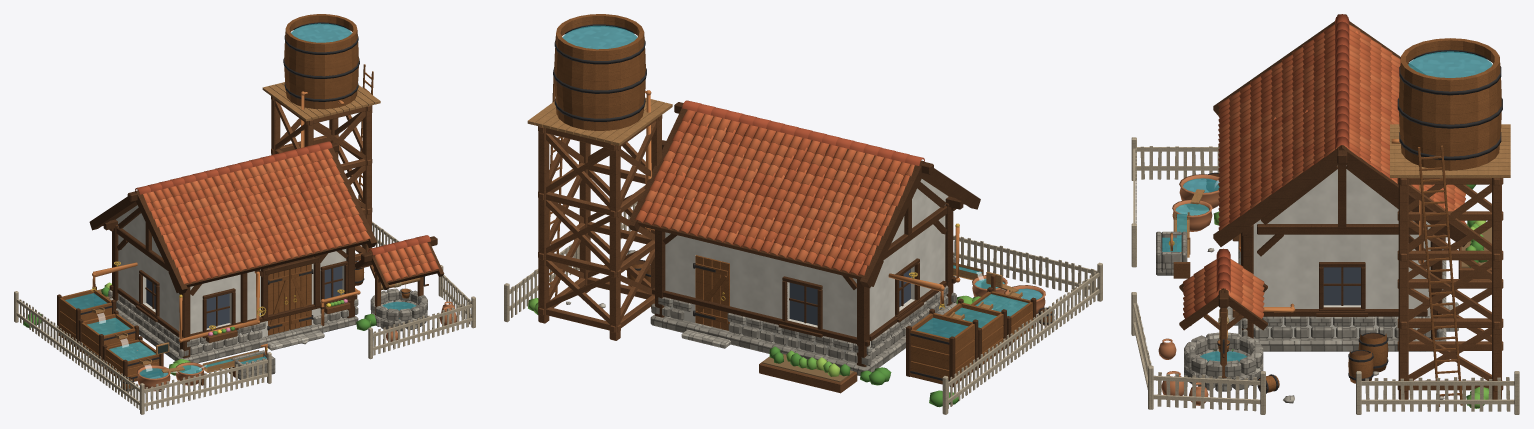
The model's file is water_treatment.glb.
3 renders of one model, left to right at view 1: azimuth 30°, elevation 25°; view 2: azimuth 150°, elevation 25°; view 3: azimuth 270°, elevation 25°, orthographic. The views are drawn at different scales.
Parts seen in each view (by area): view 1: WATER_ExteriorStatic, WATER_Roof, WATER_StorageTank, WATER_Well, WATER_Surfaces, WATER_PipeNetwork, WATER_Collection, WATER_Sedimentation, WATER_Door_R, WATER_Door_L, WATER_FilterStage, WATER_Distribution; view 2: WATER_ExteriorStatic, WATER_Roof, WATER_StorageTank, WATER_Collection, WATER_Surfaces, WATER_Door_Back, WATER_Sedimentation, WATER_PipeNetwork, WATER_FilterStage; view 3: WATER_ExteriorStatic, WATER_Roof, WATER_StorageTank, WATER_Well, WATER_Surfaces, WATER_Distribution, WATER_PipeNetwork.
Boxes of the visible parts, <box> form: WATER_ExteriorStatic: <box>14,64,475,414</box>; WATER_Roof: <box>89,141,377,294</box>; WATER_StorageTank: <box>283,14,359,109</box>; WATER_Well: <box>355,235,444,331</box>; WATER_Surfaces: <box>65,23,416,378</box>; WATER_PipeNetwork: <box>91,91,360,342</box>; WATER_Collection: <box>57,286,115,349</box>; WATER_Sedimentation: <box>78,310,138,366</box>; WATER_Door_R: <box>289,264,313,329</box>; WATER_Door_L: <box>267,269,289,335</box>; WATER_FilterStage: <box>102,336,159,381</box>; WATER_Distribution: <box>231,343,275,379</box>; WATER_ExteriorStatic: <box>504,76,1102,414</box>; WATER_Roof: <box>628,100,980,287</box>; WATER_StorageTank: <box>553,14,646,130</box>; WATER_Collection: <box>906,309,978,387</box>; WATER_Surfaces: <box>562,25,1042,338</box>; WATER_Door_Back: <box>693,255,729,330</box>; WATER_Sedimentation: <box>943,298,1006,367</box>; WATER_PipeNetwork: <box>645,90,960,309</box>; WATER_FilterStage: <box>971,287,1036,345</box>; WATER_ExteriorStatic: <box>1131,124,1519,414</box>; WATER_Roof: <box>1213,14,1466,246</box>; WATER_StorageTank: <box>1391,38,1502,170</box>; WATER_Well: <box>1179,248,1267,391</box>; WATER_Surfaces: <box>1162,51,1492,361</box>; WATER_Distribution: <box>1156,231,1187,275</box>; WATER_PipeNetwork: <box>1238,184,1424,312</box>.
Size of the model in its own units: 13.43 by 8.56 by 9.33.
Materials: 9 (5 with a texture image).
